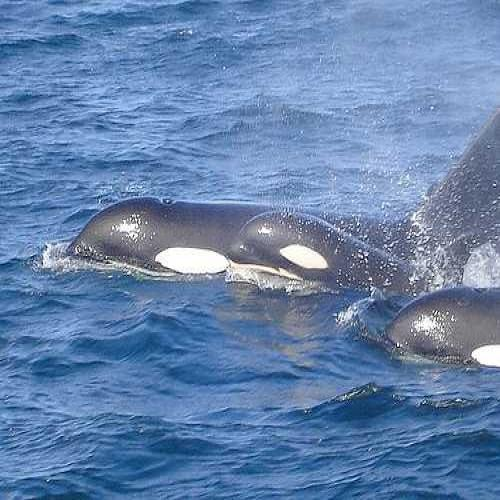killer_whale-endangered: (69, 143, 481, 307), (213, 194, 432, 323), (374, 281, 500, 392)
